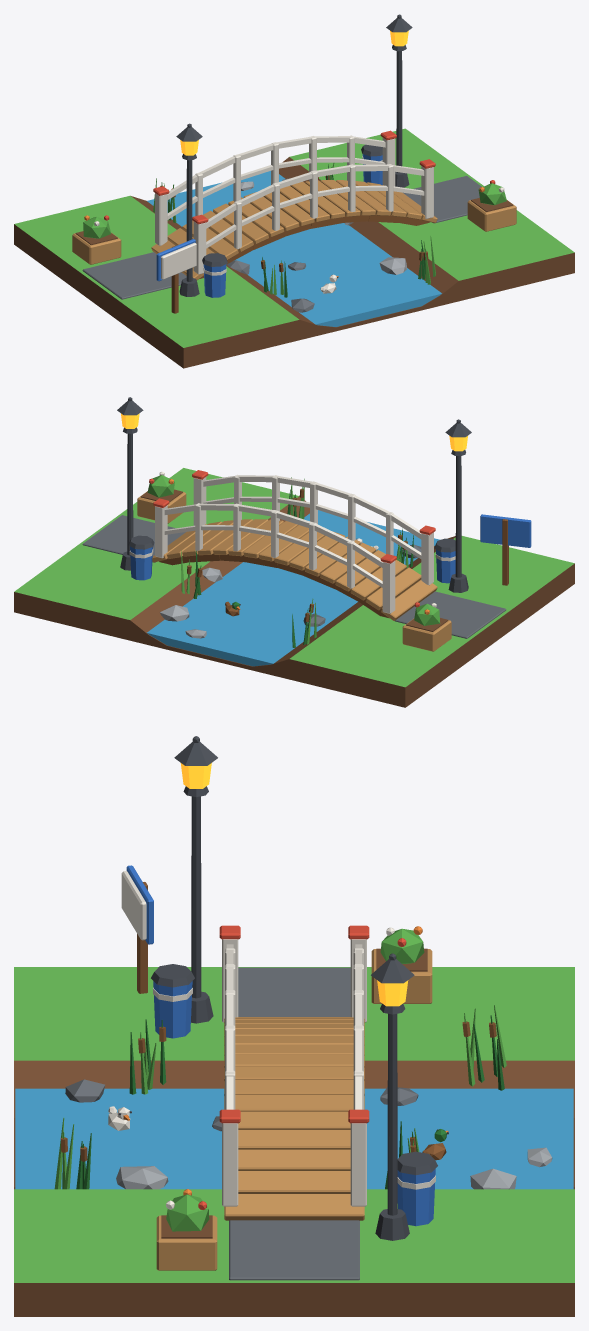
Rendered from park-footbridge.glb.
3 renders of one model, top to bottom at view 1: azimuth 30°, elevation 25°; view 2: azimuth 150°, elevation 25°; view 3: azimuth 270°, elevation 25°, orthographic. The views are drawn at different scales.
Parts seen in each view (by area): view 1: Ground, Water, Path_W, Path_E, Planter_1_Box, Planter_2_Box, SignBoard, LampPost_East_Pole, Post_R0, LampPost_West_Pole, Bin_1_Body, Post_L6 (+11 smaller); view 2: Ground, Water, Path_W, Path_E, SignBoard_Frame, Planter_1_Box, Plank_00, LampPost_West_Pole, Plank_01, Post_R0, LampPost_East_Pole, Planter_2_Box (+19 smaller); view 3: Ground, Water, Path_E, Path_W, Plank_15, Plank_14, Plank_13, Planter_2_Box, Plank_12, LampPost_East_Pole, LampPost_West_Pole, Plank_11 (+23 smaller).
Boxes of the visible parts, x1,y1,x2,y2 form: Ground: (14, 128, 574, 368); Water: (147, 171, 441, 326); Path_W: (82, 252, 186, 299); Path_E: (403, 176, 481, 223); Planter_1_Box: (72, 232, 121, 264); Planter_2_Box: (467, 200, 516, 231); SignBoard: (161, 242, 196, 279); LampPost_East_Pole: (396, 51, 402, 172); Post_R0: (155, 193, 167, 245); LampPost_West_Pole: (186, 160, 192, 281); Bin_1_Body: (203, 264, 226, 297); Post_L6: (421, 166, 433, 218); Ground: (14, 468, 574, 707); Water: (147, 510, 440, 666); Path_W: (395, 591, 506, 638); Path_E: (82, 515, 185, 562); SignBoard_Frame: (480, 514, 531, 547); Planter_1_Box: (402, 618, 451, 651); Plank_00: (381, 579, 437, 620); LampPost_West_Pole: (455, 456, 461, 577); Plank_01: (365, 567, 421, 610); Post_R0: (382, 561, 395, 613); LampPost_East_Pole: (127, 433, 133, 555); Planter_2_Box: (137, 491, 186, 523); Ground: (14, 967, 574, 1316); Water: (15, 1088, 573, 1189); Path_E: (229, 1220, 359, 1280); Path_W: (238, 967, 350, 1016); Plank_15: (224, 1194, 364, 1220); Plank_14: (238, 1171, 350, 1193); Plank_13: (238, 1149, 350, 1170); Planter_2_Box: (156, 1215, 217, 1270); Plank_12: (238, 1130, 350, 1149); LampPost_East_Pole: (387, 1013, 397, 1215); LampPost_West_Pole: (191, 796, 201, 998); Plank_11: (238, 1111, 350, 1129).
Bounding box in the file's own units: 32 × 14.83 × 24.
